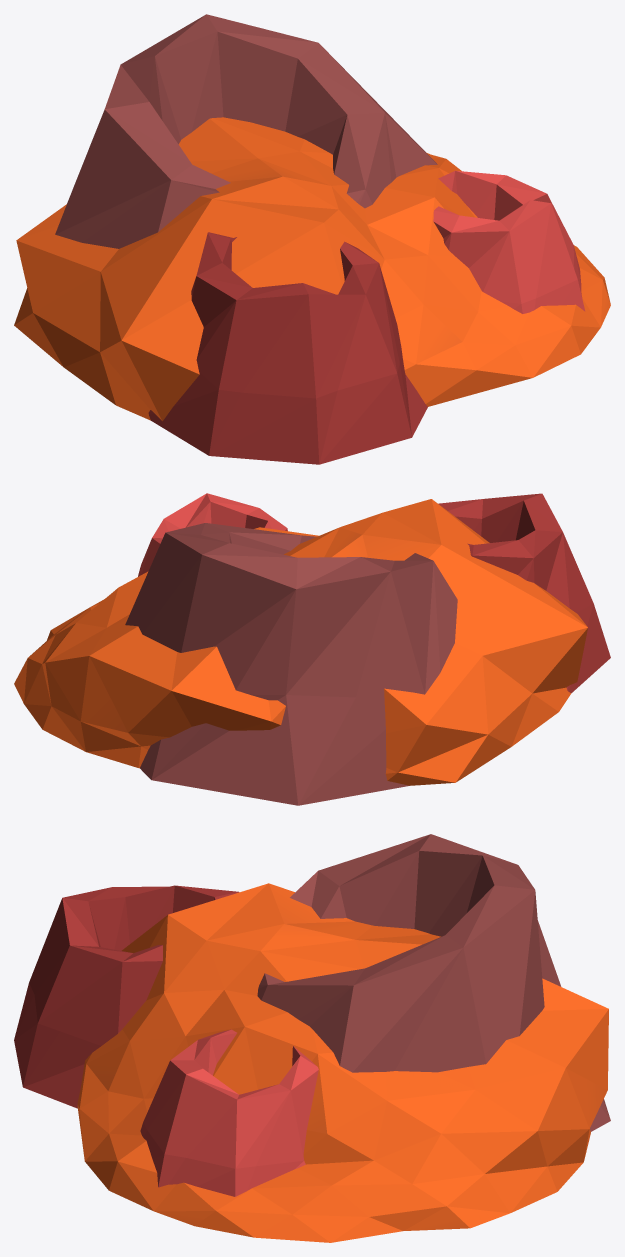
File: RAS_Plant03.fbx
3 views of the same model, one above another, from view 1: azimuth 30°, elevation 25°; view 2: azimuth 150°, elevation 25°; view 3: azimuth 270°, elevation 25° (orthographic). The views are drawn at different scales.
Visible parts, largest first — view 1: RAS_Plant03; view 2: RAS_Plant03; view 3: RAS_Plant03.
Boxes of the visible parts, x1,y1,x2,y2 form: RAS_Plant03: (14,14,610,464); RAS_Plant03: (14,493,610,805); RAS_Plant03: (14,834,610,1242).
Bounding box in the file's own units: 80.95 × 33.08 × 80.43.
Materials: 1 (1 with a texture image).
